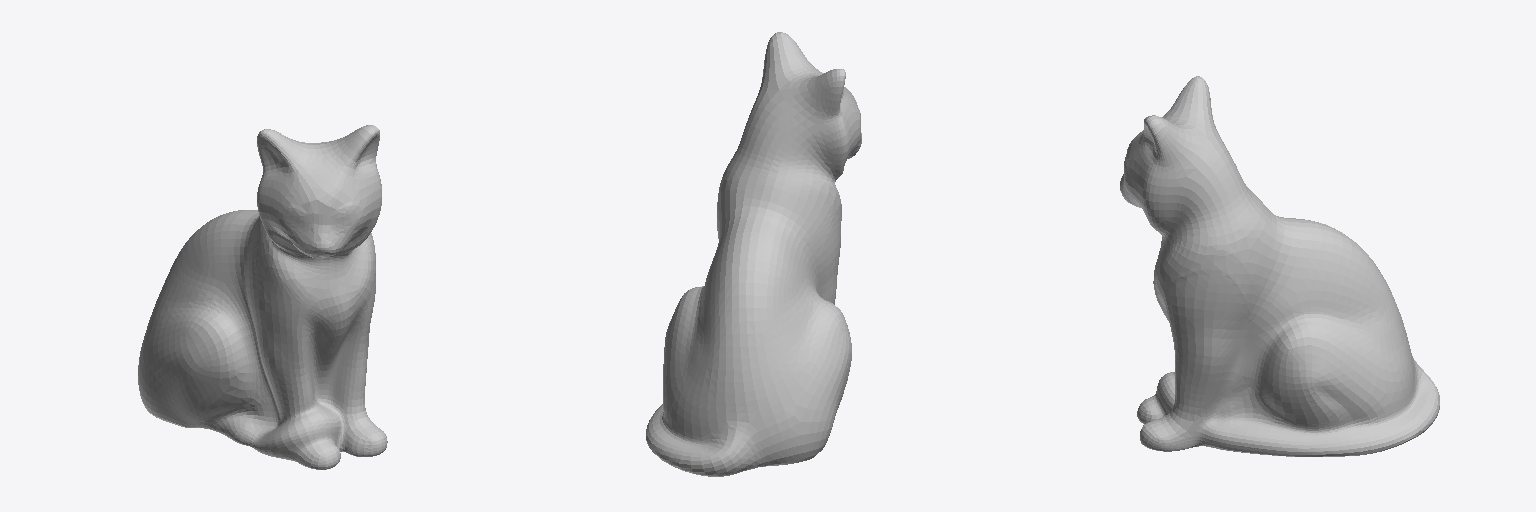
File: concrete_cat_statue.obj
The picture shows the model from 3 angles: view 1: azimuth 30°, elevation 25°; view 2: azimuth 150°, elevation 25°; view 3: azimuth 270°, elevation 25°; orthographic projection.
Parts seen in each view (by area): view 1: concrete_cat_statue; view 2: concrete_cat_statue; view 3: concrete_cat_statue.
Part boxes in pixels (x1,y1,x2,y2): concrete_cat_statue: (138, 125, 387, 469); concrete_cat_statue: (646, 32, 861, 476); concrete_cat_statue: (1120, 76, 1439, 456).
Bounding box in the file's own units: 0.153 × 0.283 × 0.25.